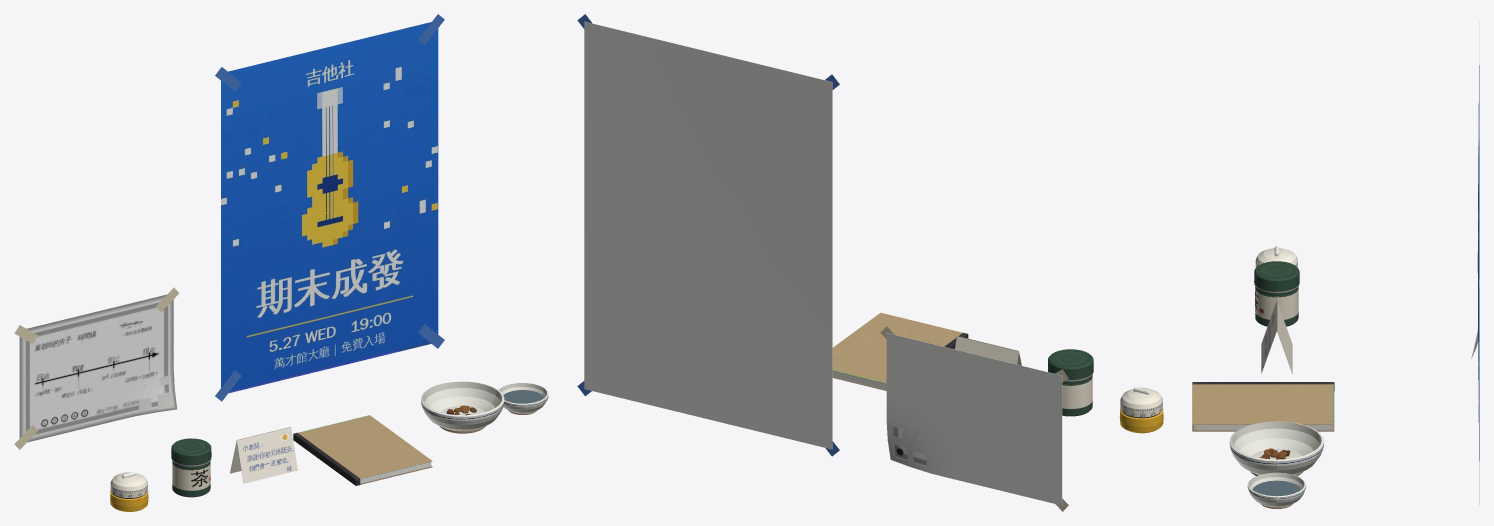
File: wz6_items.glb
3 views of the same model, side by side, from view 1: azimuth 30°, elevation 25°; view 2: azimuth 150°, elevation 25°; view 3: azimuth 270°, elevation 25° (orthographic). The views are drawn at different scales.
Visible parts, largest first — view 1: WZ6_poster, WZ6_whiteboard_print, WZ6_notebook, WZ6_cat_bowl, WZ6_card, WZ6_tea_tin, WZ6_egg_timer; view 2: WZ6_poster, WZ6_whiteboard_print, WZ6_notebook, WZ6_tea_tin, WZ6_egg_timer, WZ6_card; view 3: WZ6_notebook, WZ6_cat_bowl, WZ6_tea_tin, WZ6_card, WZ6_poster, WZ6_egg_timer.
Boxes of the visible parts, left/top/right/bottom form: WZ6_poster: left=215, top=14, right=444, bottom=401; WZ6_whiteboard_print: left=14, top=287, right=179, bottom=449; WZ6_notebook: left=293, top=415, right=432, bottom=485; WZ6_cat_bowl: left=421, top=381, right=548, bottom=433; WZ6_card: left=230, top=427, right=297, bottom=483; WZ6_tea_tin: left=171, top=438, right=211, bottom=497; WZ6_egg_timer: left=110, top=472, right=148, bottom=511; WZ6_poster: left=577, top=14, right=839, bottom=456; WZ6_whiteboard_print: left=880, top=326, right=1068, bottom=511; WZ6_notebook: left=832, top=312, right=968, bottom=390; WZ6_tea_tin: left=1048, top=349, right=1093, bottom=416; WZ6_egg_timer: left=1119, top=387, right=1163, bottom=433; WZ6_card: left=955, top=336, right=1021, bottom=365; WZ6_notebook: left=1192, top=382, right=1334, bottom=431; WZ6_cat_bowl: left=1229, top=421, right=1324, bottom=508; WZ6_tea_tin: left=1254, top=261, right=1299, bottom=326; WZ6_card: left=1261, top=301, right=1292, bottom=373; WZ6_poster: left=1477, top=21, right=1479, bottom=504; WZ6_egg_timer: left=1255, top=246, right=1297, bottom=267.
Size of the model in its own units: 0.8529 by 0.6183 by 0.4252.
Materials: 1 (1 with a texture image).
